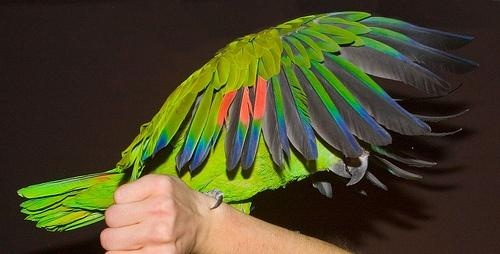bird: (17, 12, 482, 235)
